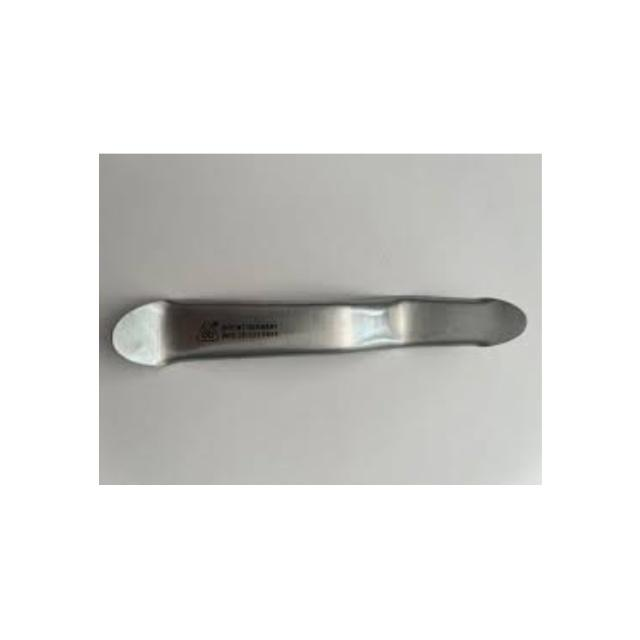separador: (110, 294, 528, 369)
